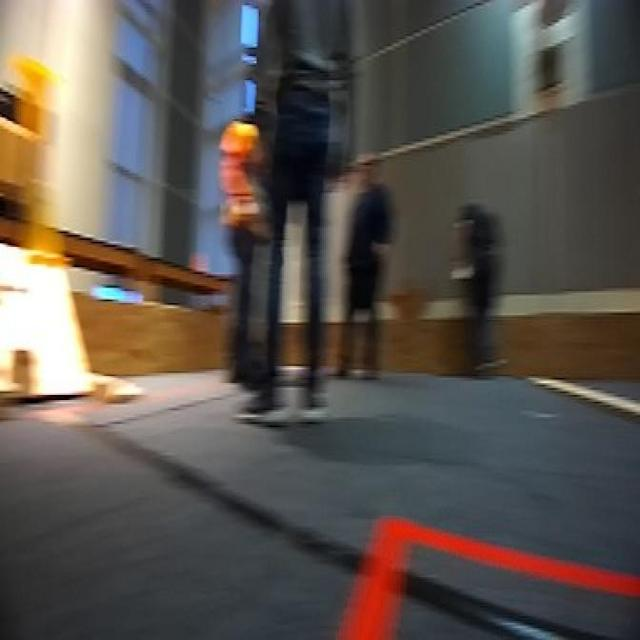frc_cone: (34, 184, 70, 272), (17, 44, 55, 126)
